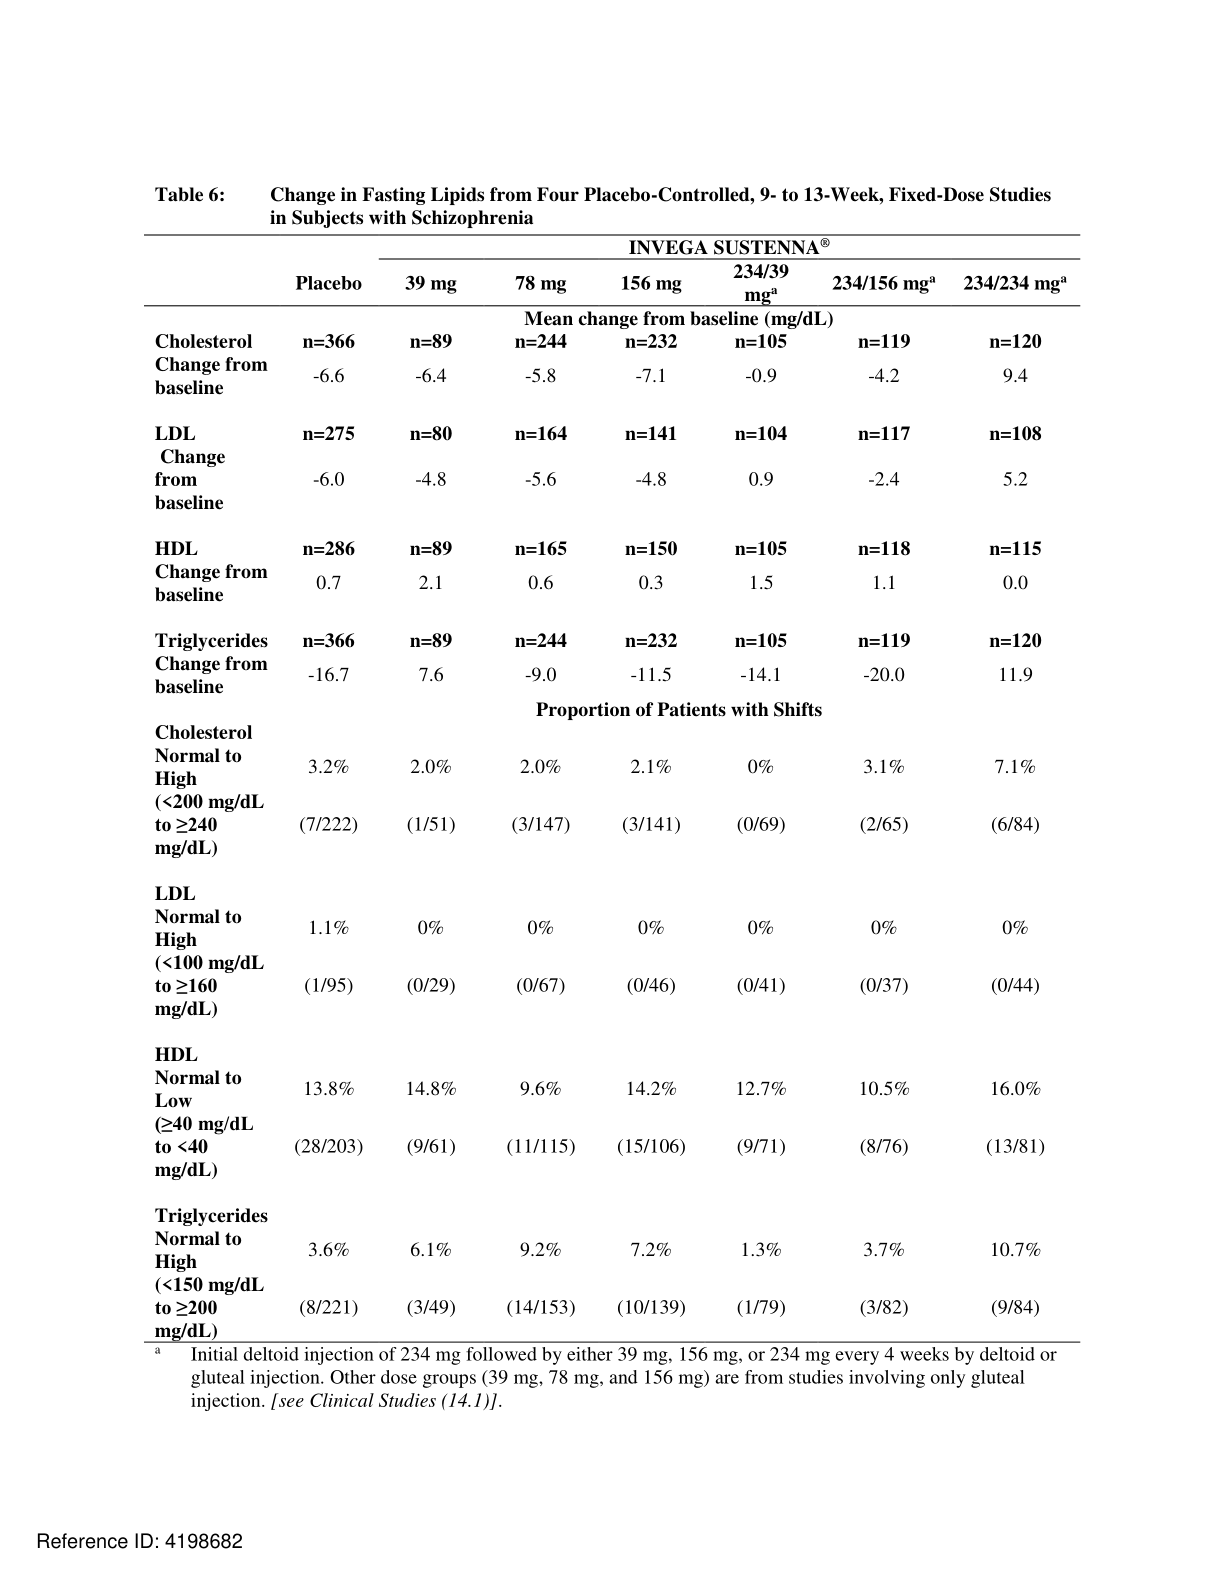partial_lined_merged_cells: (141, 230, 1086, 1347)
